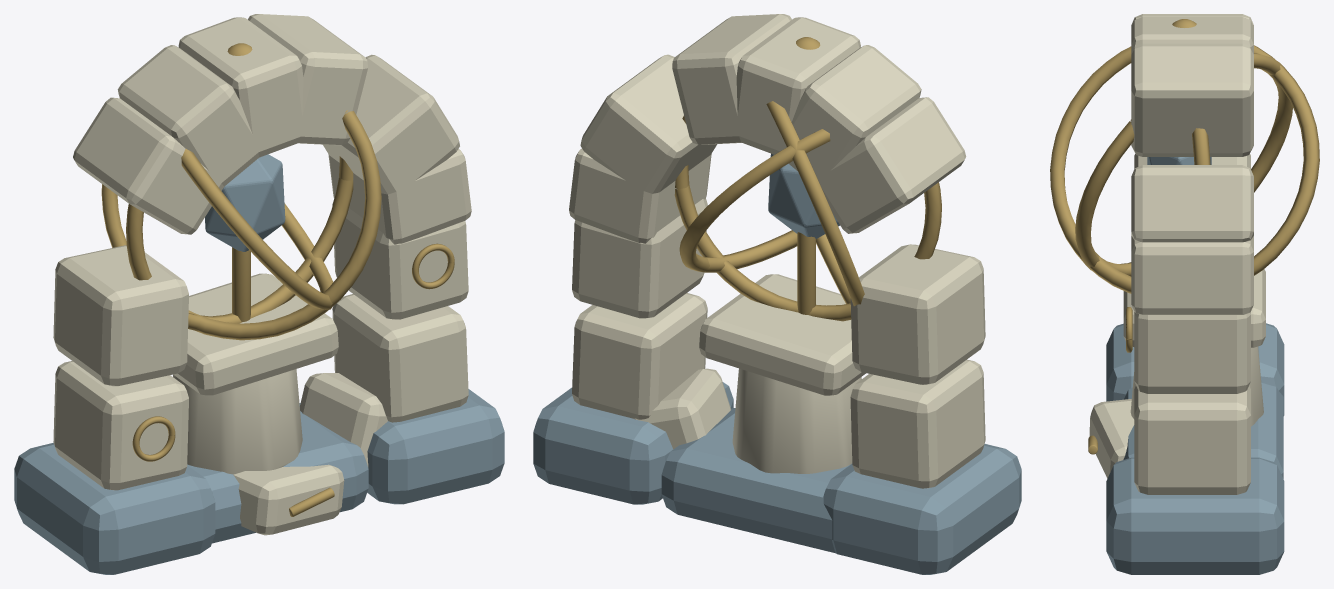
The model's file is osservatorio.glb.
3 renders of one model, left to right at view 1: azimuth 30°, elevation 25°; view 2: azimuth 150°, elevation 25°; view 3: azimuth 270°, elevation 25°, orthographic. The views are drawn at different scales.
Visible parts, largest first — view 1: left_pearl, left_blue, right_pearl, right_gold, right_blue, left_gold; view 2: left_pearl, left_blue, right_pearl, right_blue, right_gold; view 3: left_pearl, left_blue, right_gold, right_blue, right_pearl, left_gold.
Boxes of the visible parts, x1,y1,x2,y2 form: left_pearl: (53,14,471,535); left_blue: (14,389,504,574); right_pearl: (173,273,387,474); right_gold: (101,43,381,340); right_blue: (187,154,368,543); left_gold: (132,243,454,516); left_pearl: (569,14,985,488); left_blue: (533,382,1021,574); right_pearl: (632,274,865,473); right_blue: (661,153,850,553); right_gold: (674,37,941,321); left_pearl: (1089,14,1253,494); left_blue: (1106,323,1284,574); right_gold: (1050,19,1319,293); right_blue: (1123,157,1283,478); right_pearl: (1123,262,1265,426); left_gold: (1088,307,1132,454).
Bounding box in the file's own units: 0.9326 × 1 × 0.5383.
